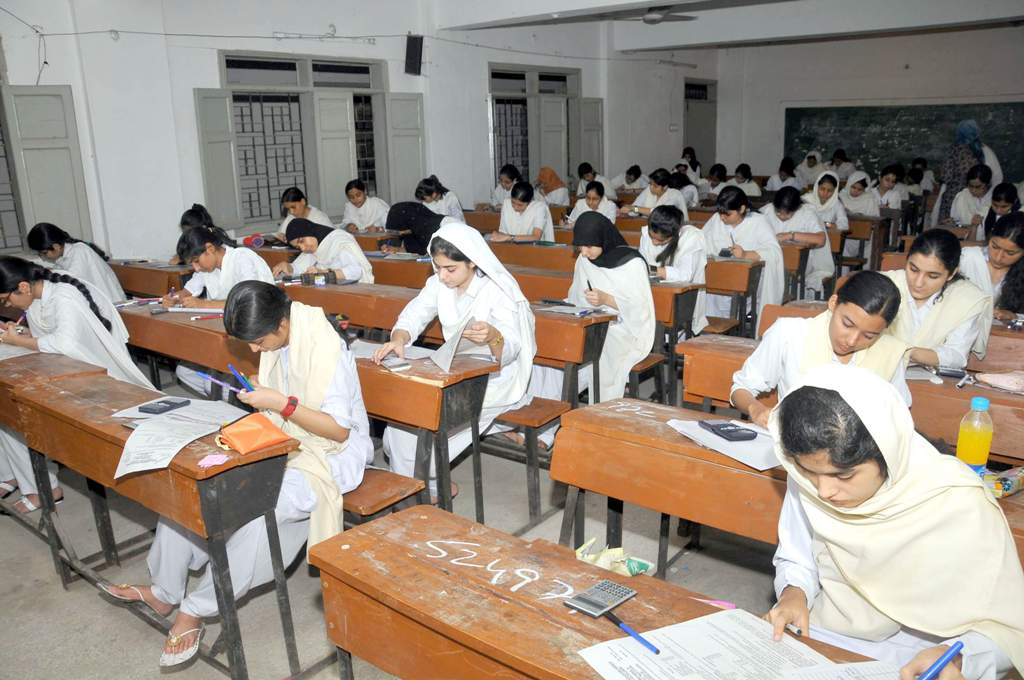student: (713, 371, 988, 653), (194, 246, 397, 475), (352, 212, 534, 381), (533, 189, 670, 350), (761, 270, 927, 393), (872, 228, 988, 381), (1, 238, 115, 361), (689, 177, 784, 298), (627, 187, 712, 313), (276, 212, 373, 299)
